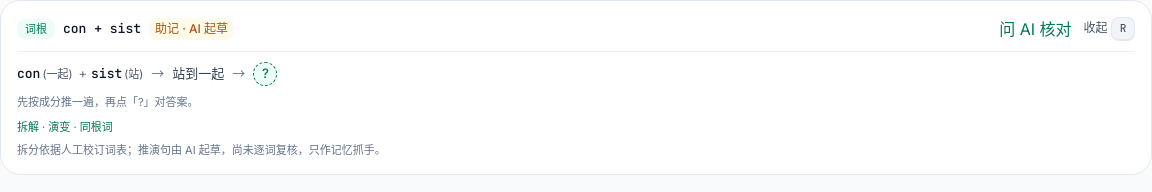
Test: 词根记忆链（卡片背面） › 点「?」揭示词义，而不是一上来就把答案摊开
This screenshot has width=1152, height=192.
Click the button named "回忆词义" at (265, 74), box [253,62,277,86]
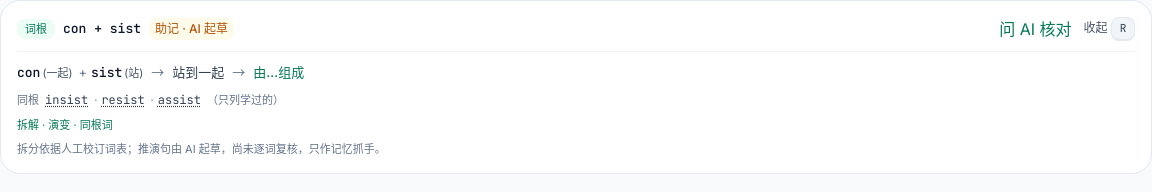
Expected: the text "由…组成" is shown, [253,62,304,83]
